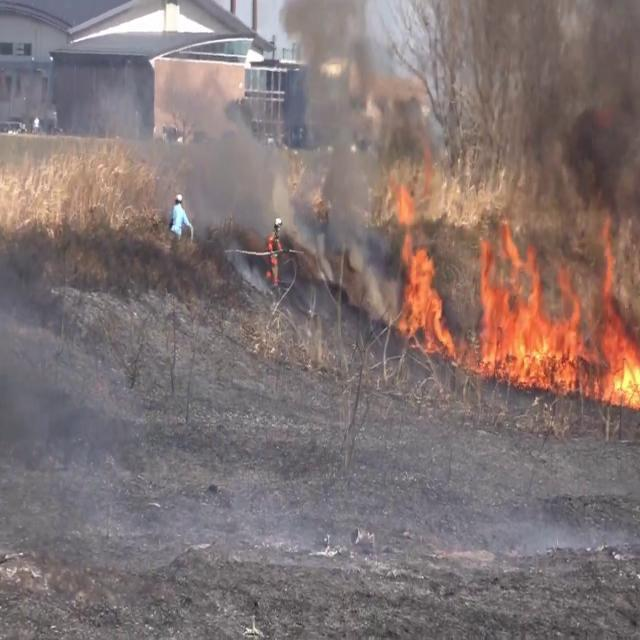Fire: (472, 212, 640, 410), (391, 208, 454, 356)
Smoke: (279, 0, 640, 248), (554, 2, 640, 336), (162, 76, 284, 244)
